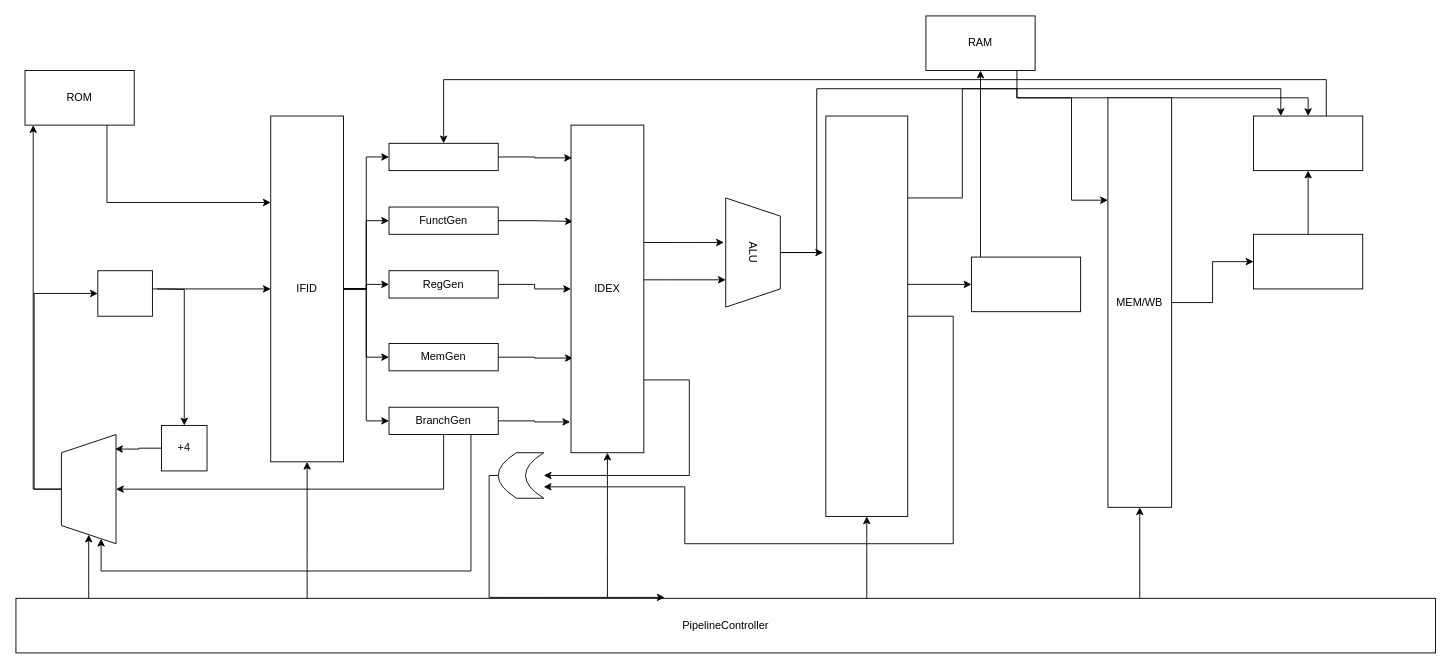
The diagram is 1451 pixels wide and 669 high, and some of its shapes have lost their labels. Here are the shapes that lost their labels. From the top down, the centre of each, then its label:
the point at 443,156: OprGen
the point at 1308,143: ReadProxy
the point at 1308,261: RegFile
the point at 124,293: PC
the point at 1026,284: AddrGen
the point at 866,315: EX/MEM
